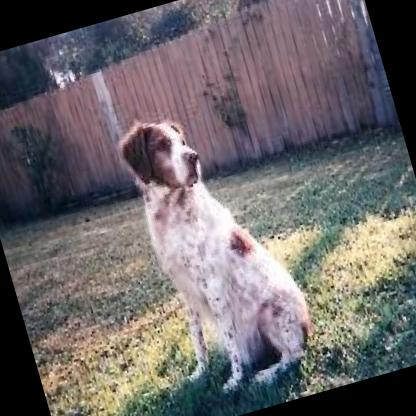Brittany_spaniel: (107, 87, 324, 402)
